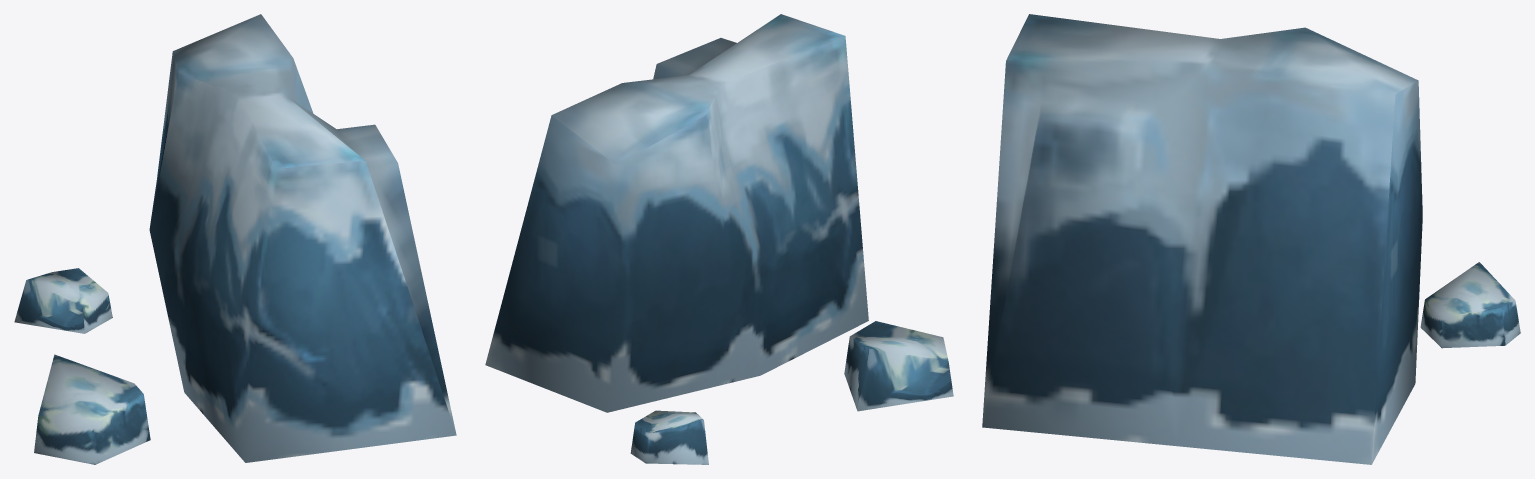
The model's file is Stage_BingYuan_FengHuoTaiShiDui03.FBX.
The picture shows the model from 3 angles, left to right: view 1: azimuth 30°, elevation 25°; view 2: azimuth 150°, elevation 25°; view 3: azimuth 270°, elevation 25°; orthographic projection. The views are drawn at different scales.
Parts seen in each view (by area): view 1: Stage_BingYuan_FengHuoTaiShiDui03; view 2: Stage_BingYuan_FengHuoTaiShiDui03; view 3: Stage_BingYuan_FengHuoTaiShiDui03.
Part boxes in pixels (x1,y1,x2,y2): Stage_BingYuan_FengHuoTaiShiDui03: (14, 14, 456, 464); Stage_BingYuan_FengHuoTaiShiDui03: (485, 14, 953, 464); Stage_BingYuan_FengHuoTaiShiDui03: (982, 14, 1520, 464).
Size of the model in its own units: 83.6 by 57.17 by 85.47.
